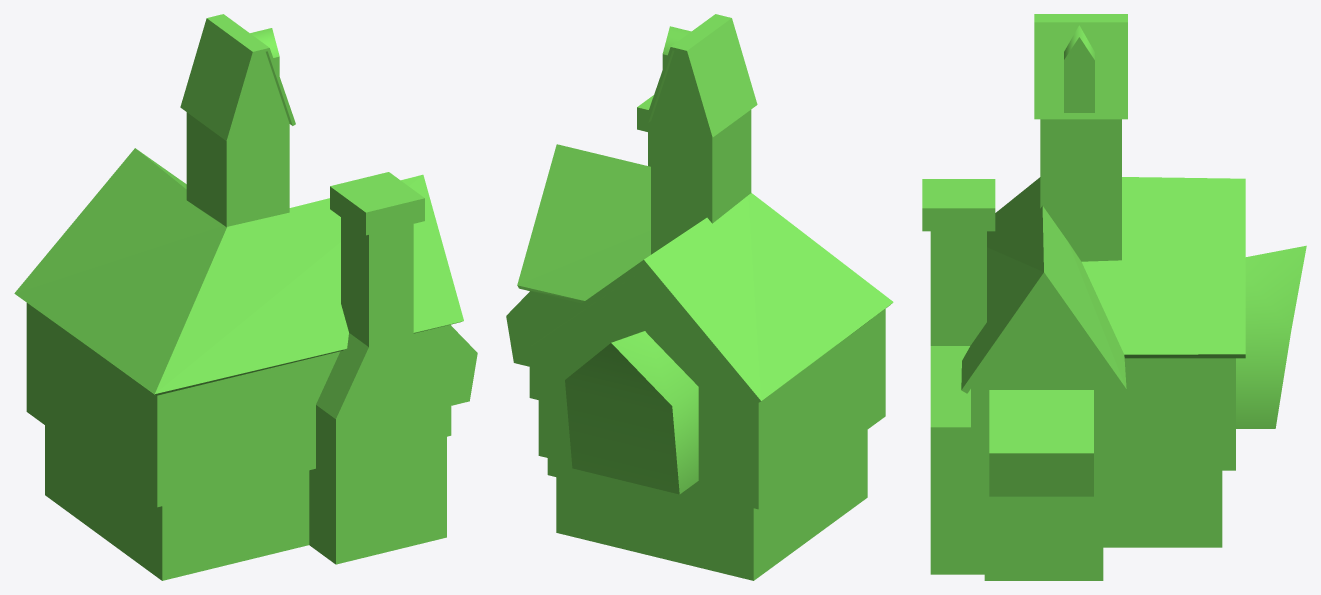
The model's file is Building4_Collision.FBX.
3 renders of one model, left to right at view 1: azimuth 30°, elevation 25°; view 2: azimuth 150°, elevation 25°; view 3: azimuth 270°, elevation 25°, orthographic. The views are drawn at different scales.
Parts seen in each view (by area): view 1: Building4_Collision; view 2: Building4_Collision; view 3: Building4_Collision.
Boxes of the visible parts, x1,y1,x2,y2 form: Building4_Collision: [14, 14, 477, 580]; Building4_Collision: [506, 14, 893, 580]; Building4_Collision: [922, 14, 1306, 580].
Bounding box in the file's own units: 19.89 × 27.24 × 19.37.
